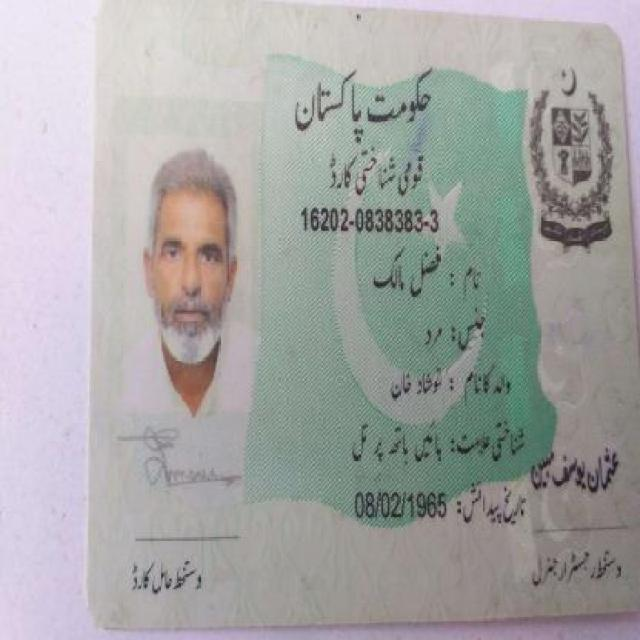Front: (84, 6, 638, 626)
